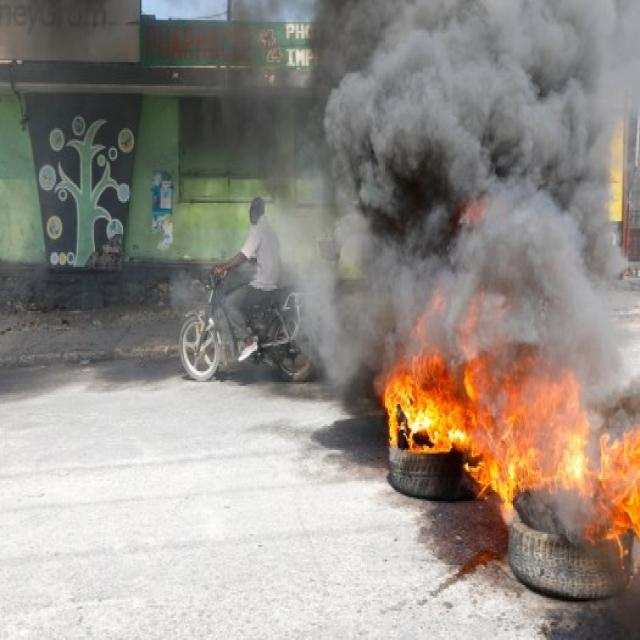fire: (465, 357, 590, 507), (383, 352, 469, 453), (586, 430, 640, 556)
